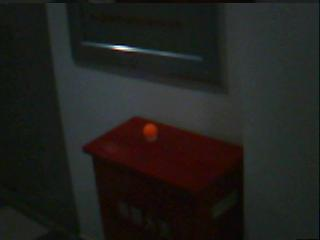oball: (143, 123, 157, 138)
